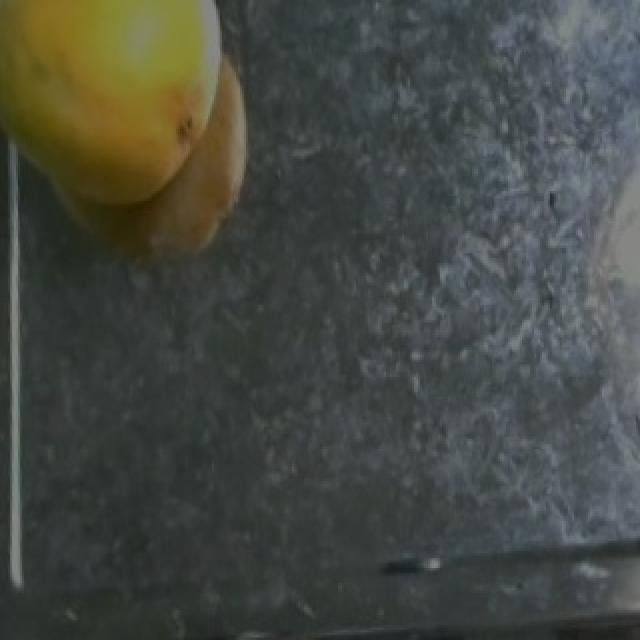fruit: (0, 0, 272, 228)
